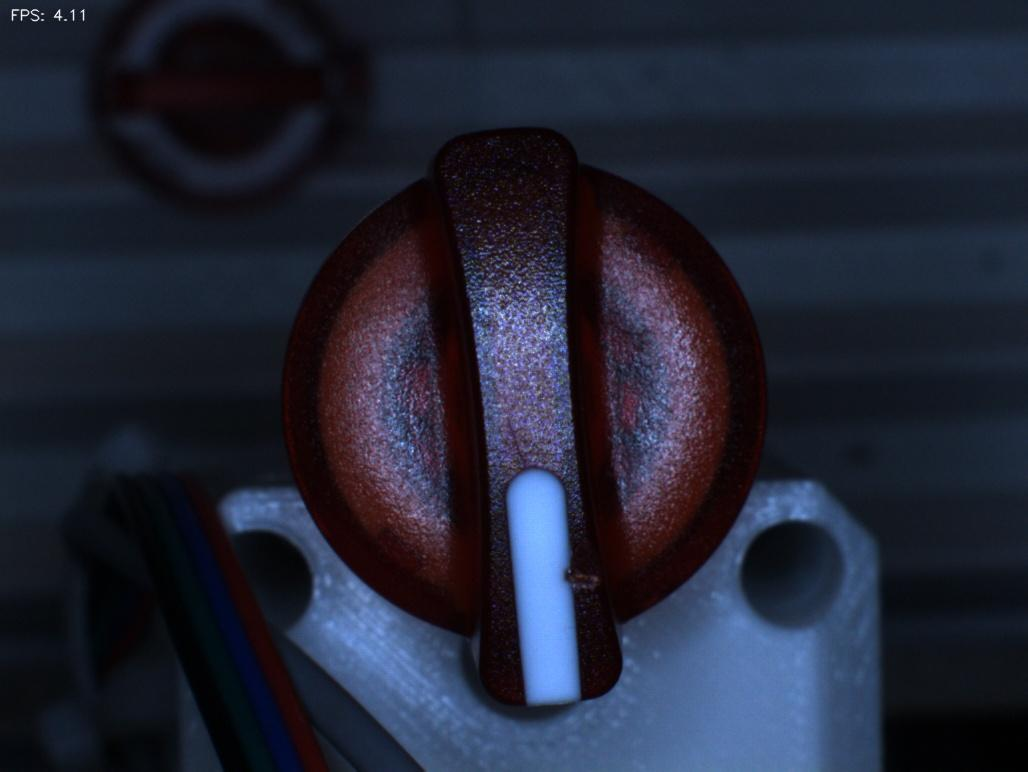Choc: (543, 535, 623, 624)
